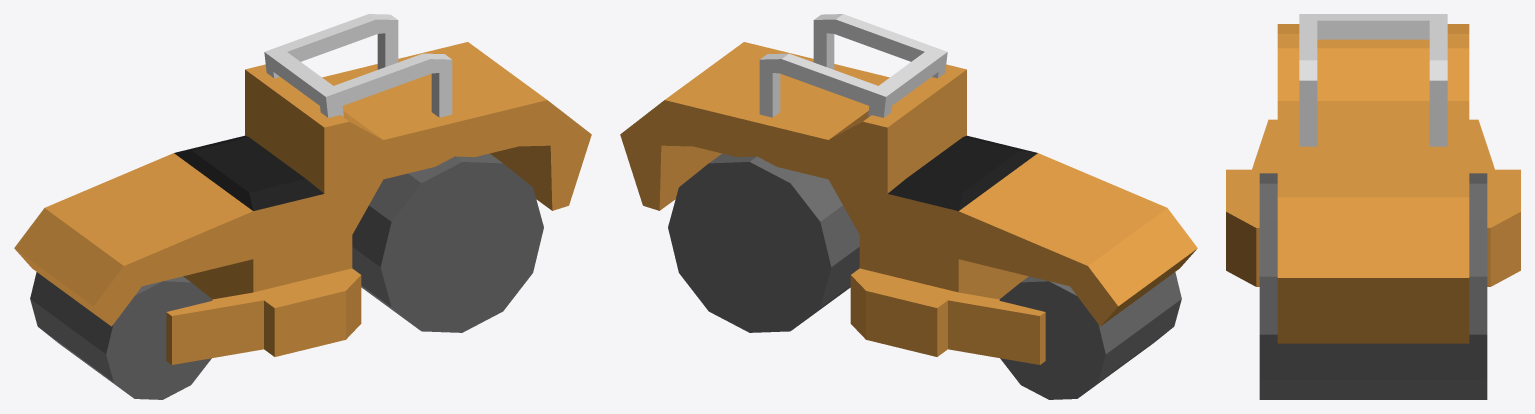
Rendered from ROADROLLA.fbx.
The picture shows the model from 3 angles, left to right: view 1: azimuth 30°, elevation 25°; view 2: azimuth 150°, elevation 25°; view 3: azimuth 270°, elevation 25°; orthographic projection. The views are drawn at different scales.
Parts seen in each view (by area): view 1: Base, BWheel, FWheel, Guard; view 2: Base, BWheel, FWheel, Guard; view 3: Base, BWheel, Guard.
Part boxes in pixels (x1,y1,x2,y2): Base: (14, 42, 591, 364); BWheel: (352, 153, 543, 332); FWheel: (30, 272, 212, 399); Guard: (264, 14, 452, 117); Base: (620, 42, 1197, 364); BWheel: (668, 153, 859, 332); FWheel: (999, 272, 1181, 399); Guard: (759, 14, 947, 117); Base: (1226, 24, 1520, 343); BWheel: (1259, 173, 1487, 399); Guard: (1299, 14, 1447, 146).
Bounding box in the file's own units: 1400 × 721 × 596.
